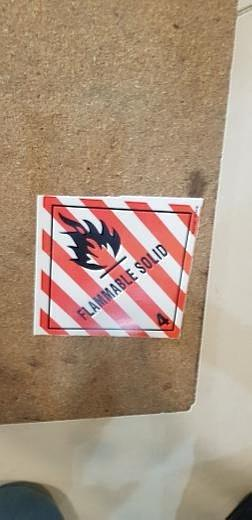flammable-solid: (34, 195, 204, 335)
